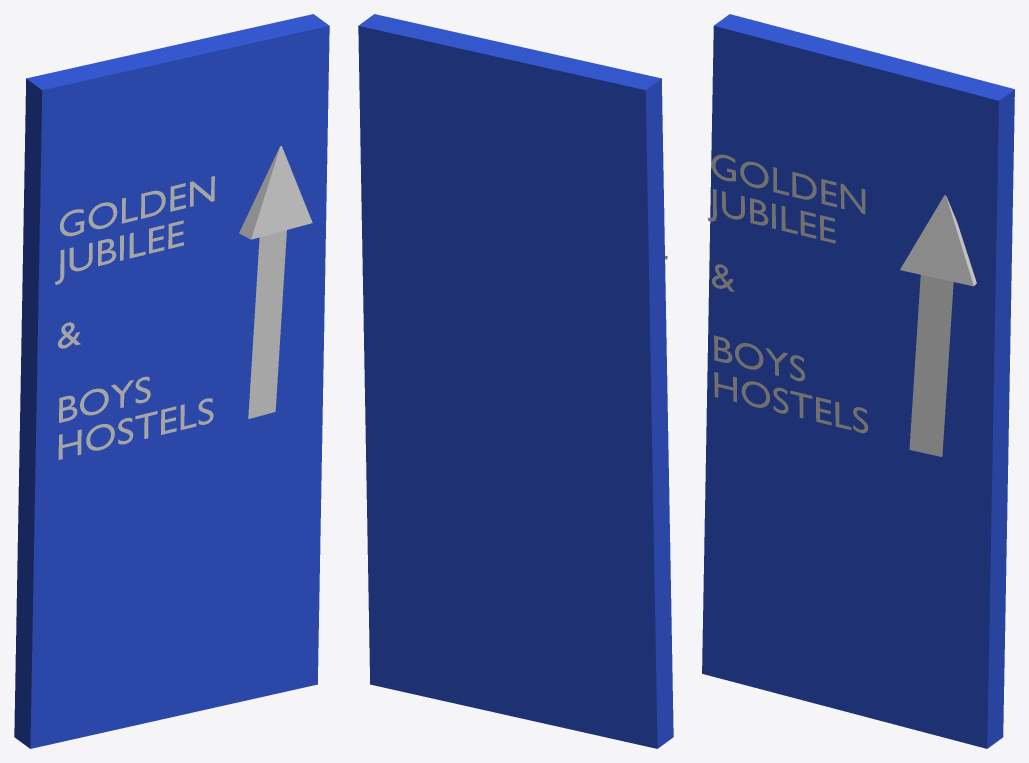
Rendered from goldendir.glb.
3 renders of one model, left to right at view 1: azimuth 30°, elevation 25°; view 2: azimuth 150°, elevation 25°; view 3: azimuth 330°, elevation 25°, orthographic.
Visible parts, largest first — view 1: Cube, Cube.001, Text; view 2: Cube; view 3: Cube, Cube.001, Text.
Boxes of the visible parts, bbox=[...] form: Cube: bbox=[14, 14, 329, 748]; Cube.001: bbox=[239, 146, 312, 418]; Text: bbox=[55, 176, 214, 459]; Cube: bbox=[358, 14, 673, 748]; Cube: bbox=[702, 14, 1014, 748]; Cube.001: bbox=[900, 195, 976, 456]; Text: bbox=[708, 154, 868, 433].
Size of the model in its own units: 2.08 by 4.4 by 0.3229.
